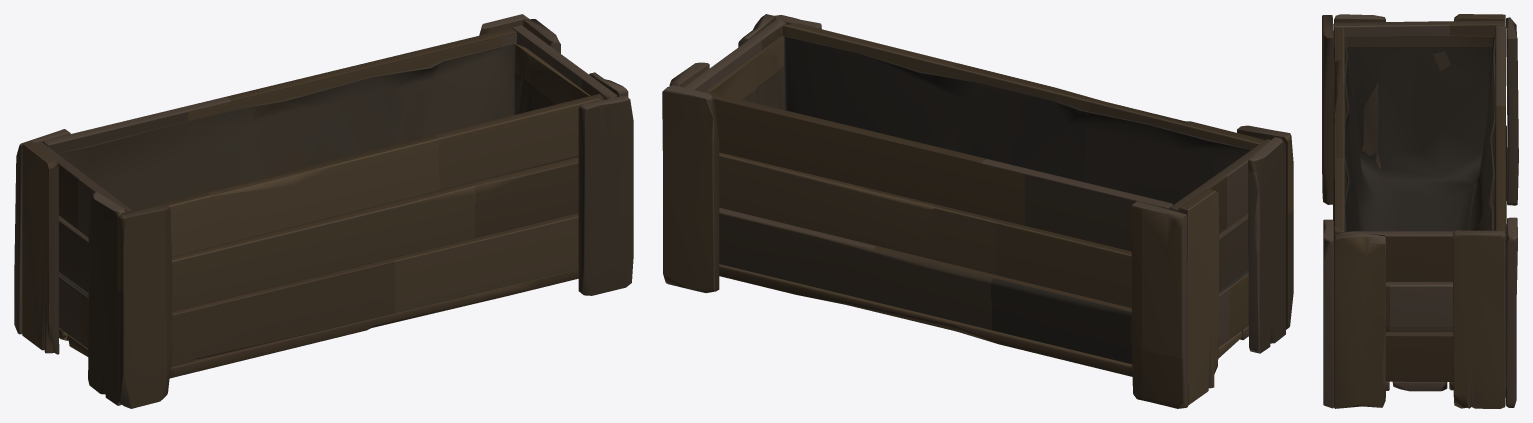
File: ph_planter_2.glb
The picture shows the model from 3 angles, left to right: view 1: azimuth 30°, elevation 25°; view 2: azimuth 150°, elevation 25°; view 3: azimuth 270°, elevation 25°; orthographic projection. The views are drawn at different scales.
Parts seen in each view (by area): view 1: ph_planter_2; view 2: ph_planter_2; view 3: ph_planter_2.
Boxes of the visible parts, x1=… form: ph_planter_2: x1=14, y1=14, x2=633, y2=408; ph_planter_2: x1=662, y1=14, x2=1293, y2=408; ph_planter_2: x1=1322, y1=14, x2=1518, y2=408.
Bounding box in the file's own units: 1.25 × 0.4534 × 0.4639.
1 material, 1 textured.
